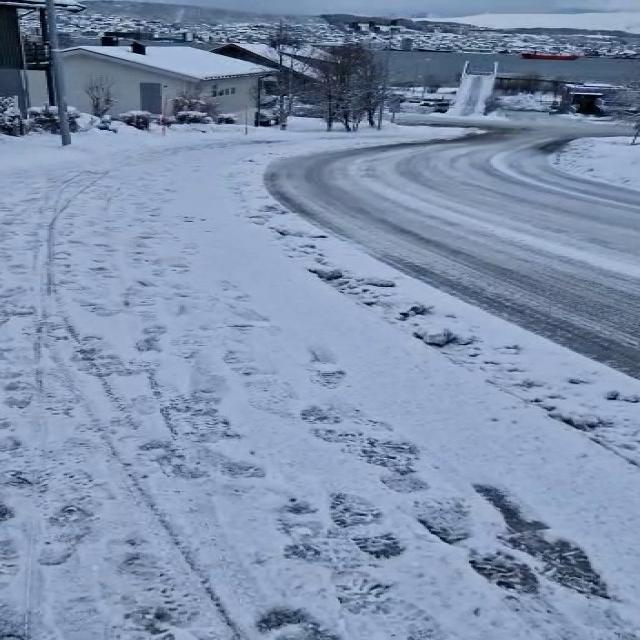path: (265, 115, 640, 376)
